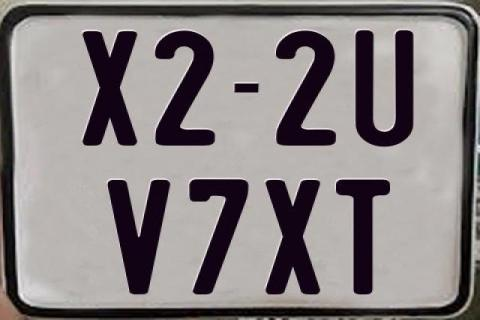0: (273, 28, 337, 143), (188, 179, 250, 296), (152, 29, 212, 145)
T: (333, 180, 392, 296)
U: (354, 29, 419, 149)
V: (107, 178, 171, 294)
X: (80, 30, 141, 144), (265, 179, 320, 295)
